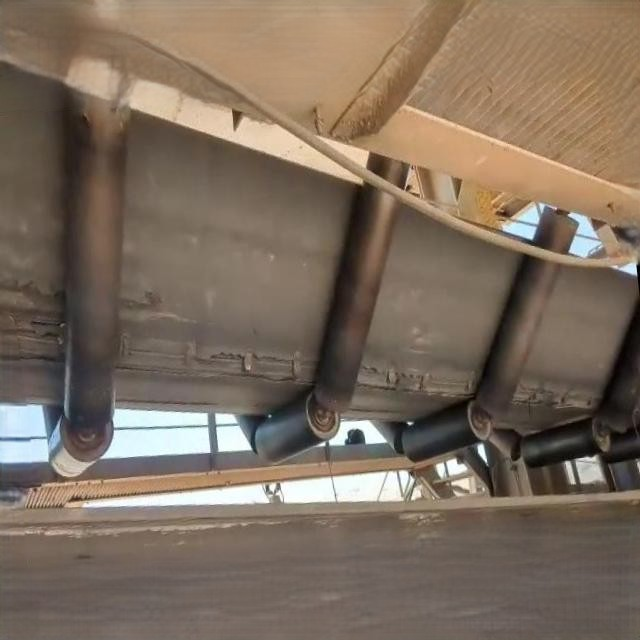Tear: (112, 328, 324, 396), (5, 266, 73, 374), (356, 356, 482, 414), (516, 369, 602, 423)
Wear: (106, 282, 201, 330)
